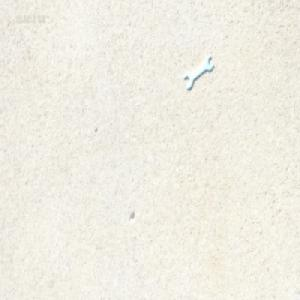Wrench: (183, 58, 211, 92)
